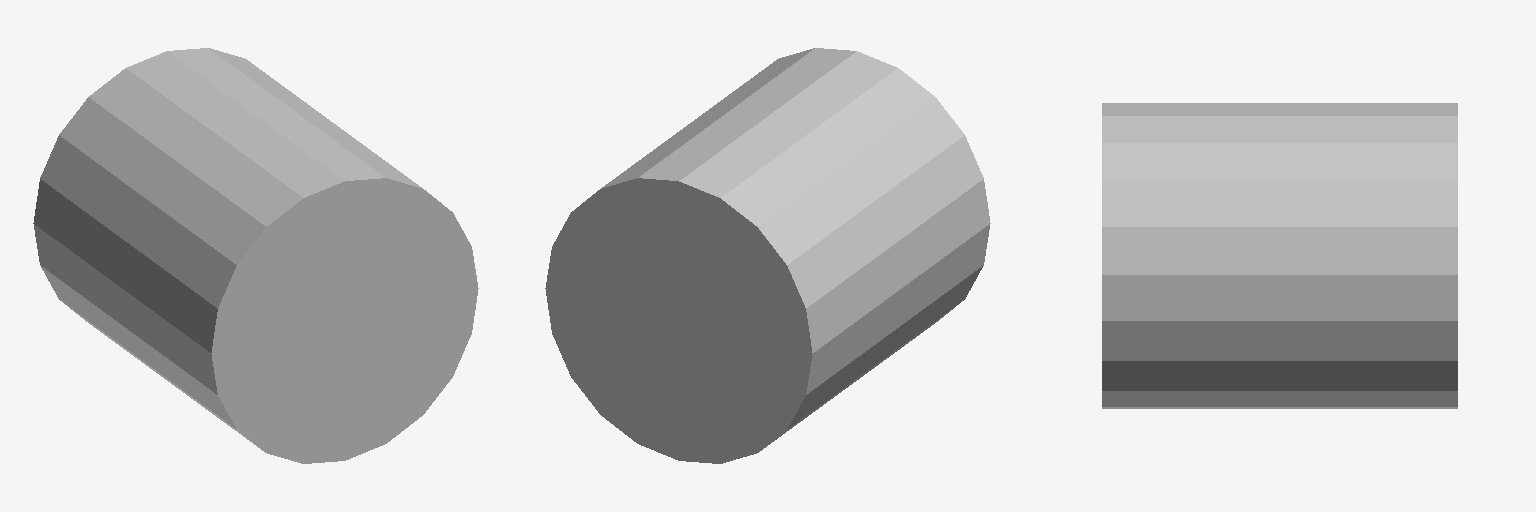
File: Resaltado_Procer.obj
The picture shows the model from 3 angles: view 1: azimuth 30°, elevation 25°; view 2: azimuth 150°, elevation 25°; view 3: azimuth 270°, elevation 25°; orthographic projection.
Parts seen in each view (by area): view 1: pCylinder10 Marcadores1; view 2: pCylinder10 Marcadores1; view 3: pCylinder10 Marcadores1.
Part boxes in pixels (x1,y1,x2,y2): pCylinder10 Marcadores1: (33, 48, 478, 463); pCylinder10 Marcadores1: (545, 48, 990, 463); pCylinder10 Marcadores1: (1102, 103, 1457, 408).
Bounding box in the file's own units: 0.0274 × 0.0274 × 0.0316.